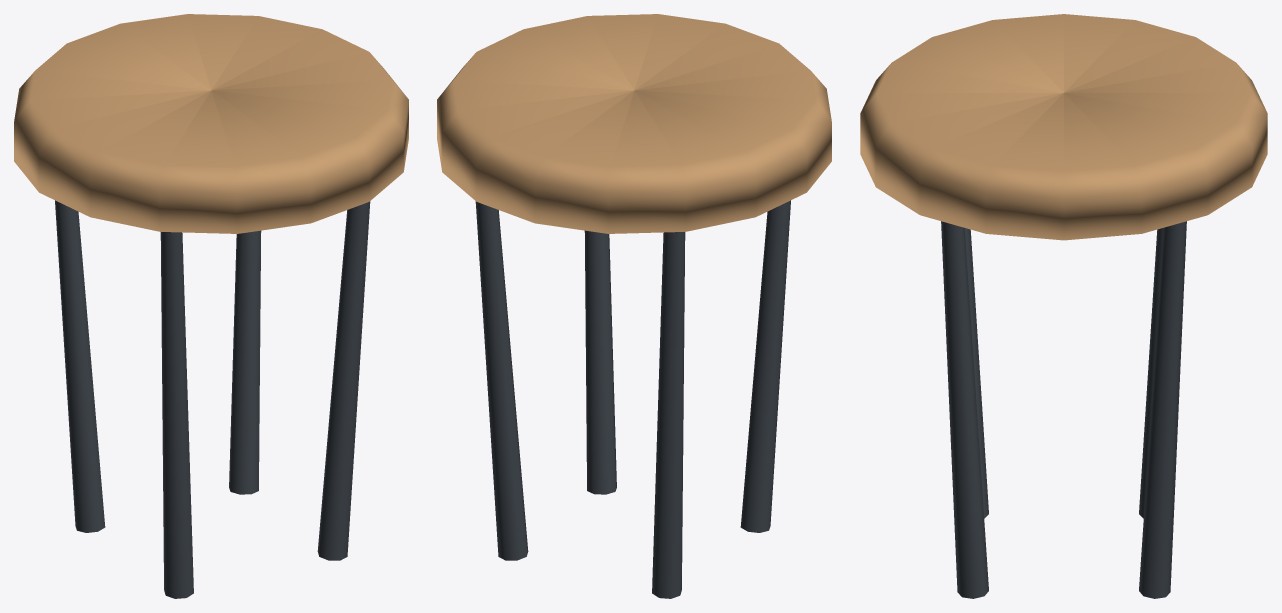
The model's file is stool-lite.glb.
3 renders of one model, left to right at view 1: azimuth 30°, elevation 25°; view 2: azimuth 150°, elevation 25°; view 3: azimuth 270°, elevation 25°, orthographic. The views are drawn at different scales.
Visible parts, largest first — view 1: material-1-top, material-0-leg; view 2: material-1-top, material-0-leg; view 3: material-1-top, material-0-leg.
Part boxes in pixels (x1,y1,x2,y2): material-1-top: [14, 14, 408, 233]; material-0-leg: [55, 200, 370, 598]; material-1-top: [437, 14, 831, 233]; material-0-leg: [475, 200, 790, 598]; material-1-top: [860, 14, 1267, 240]; material-0-leg: [941, 221, 1186, 598].
Size of the model in its own units: 0.36 by 0.45 by 0.36.
